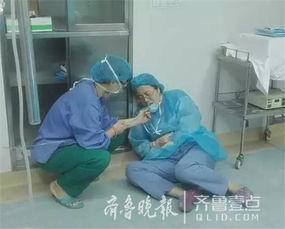Fall-Detected: (115, 65, 256, 211)
